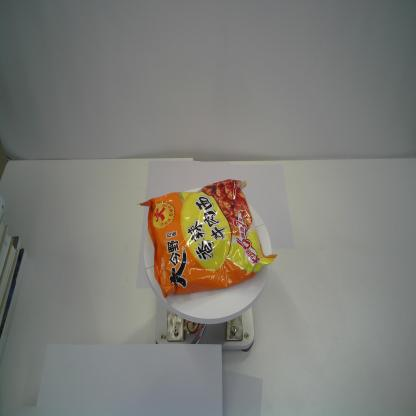Instant Noodles: (138, 178, 278, 299)
